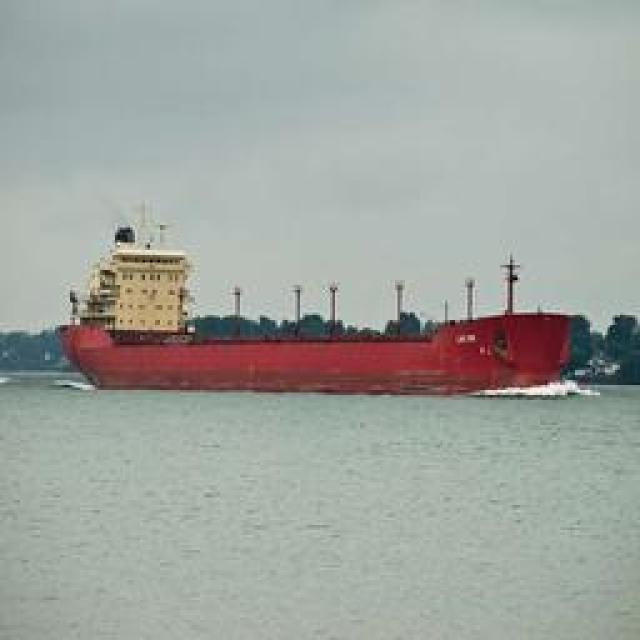ship2: (57, 253, 575, 393)
